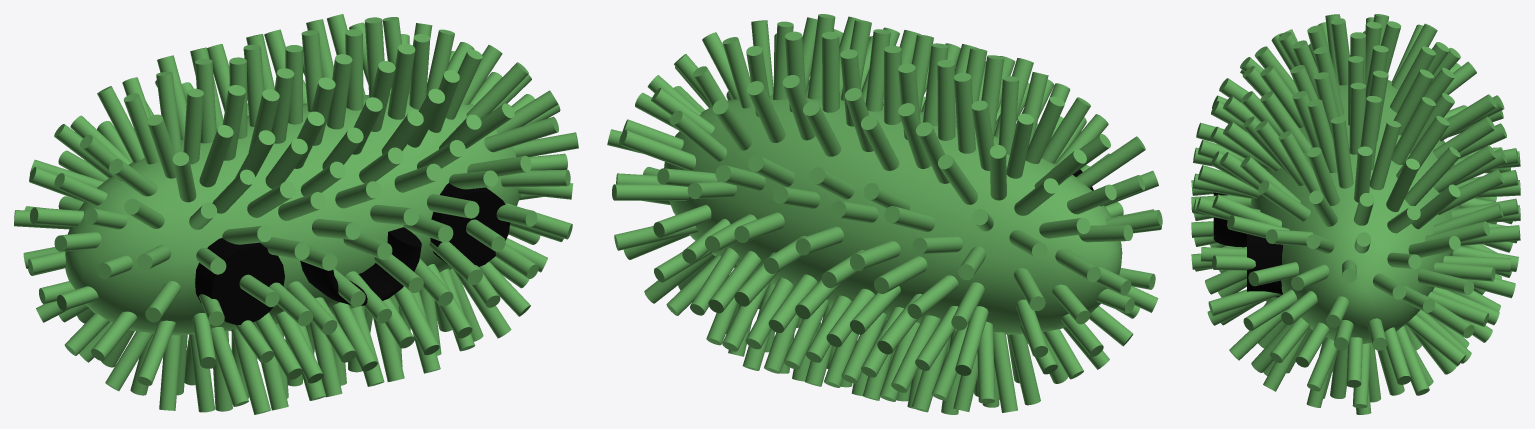
File: GREEN2.fbx
3 renders of one model, left to right at view 1: azimuth 30°, elevation 25°; view 2: azimuth 150°, elevation 25°; view 3: azimuth 270°, elevation 25°, orthographic. The views are drawn at different scales.
Visible parts, largest first — view 1: pCylinder94; view 2: pCylinder94; view 3: pCylinder94.
Boxes of the visible parts, x1,y1,x2,y2 form: pCylinder94: [14, 14, 578, 414]; pCylinder94: [607, 14, 1162, 414]; pCylinder94: [1191, 14, 1520, 414].
Size of the model in its own units: 9.46 by 5.84 by 5.85.
